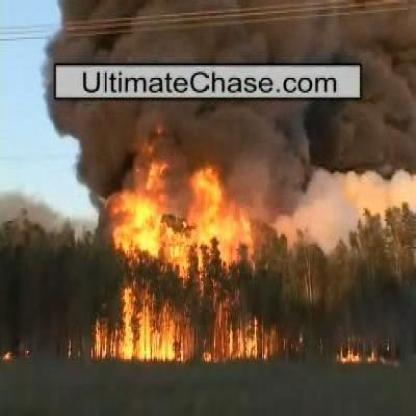-: (70, 107, 369, 174), (60, 5, 337, 58)
foggia-v2-map80-epoch100 - v1 4323: (125, 304, 171, 359)
